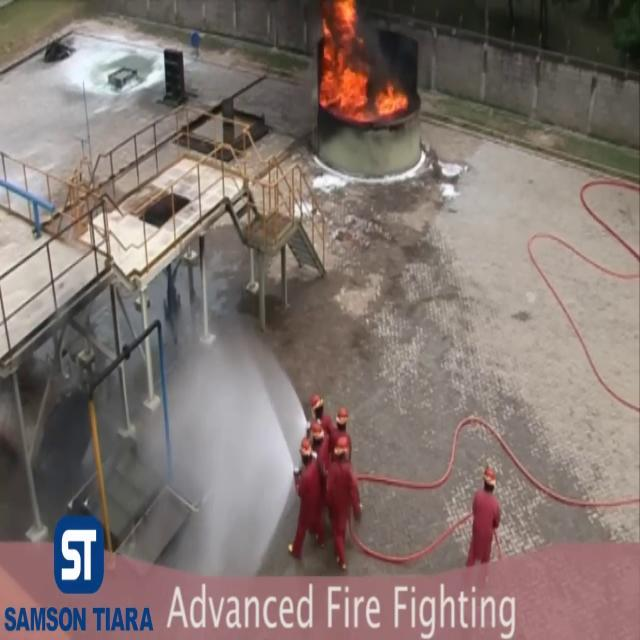Fire: (310, 0, 412, 132)
